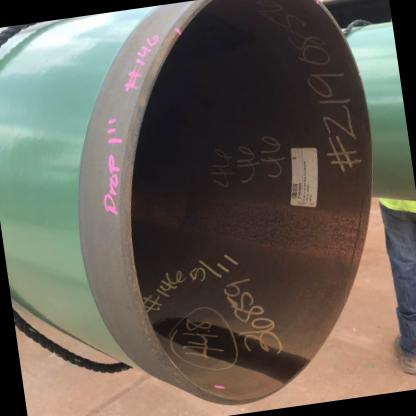Bevel: (189, 0, 206, 10)
